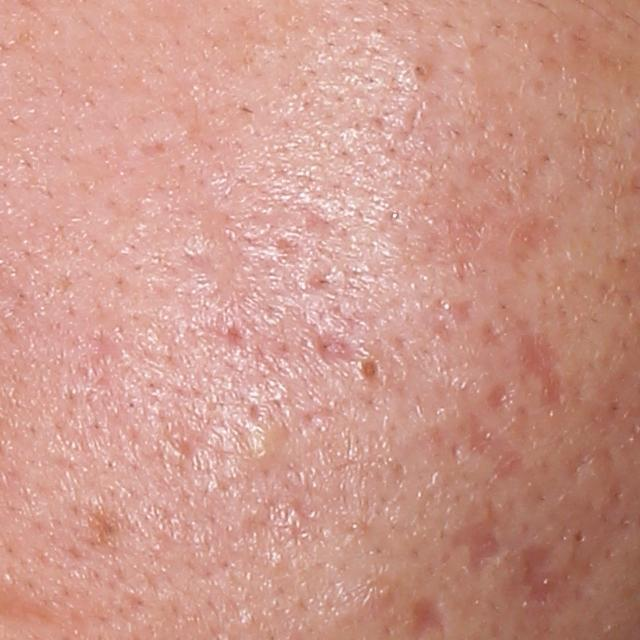atrophic_scar: (513, 317, 570, 415), (505, 538, 565, 615), (453, 499, 510, 577), (505, 213, 574, 270), (463, 407, 506, 458), (128, 132, 178, 166), (566, 442, 600, 486), (482, 379, 519, 413), (318, 331, 355, 364), (482, 320, 506, 351)
comedo: (352, 353, 390, 386), (406, 59, 430, 84)
